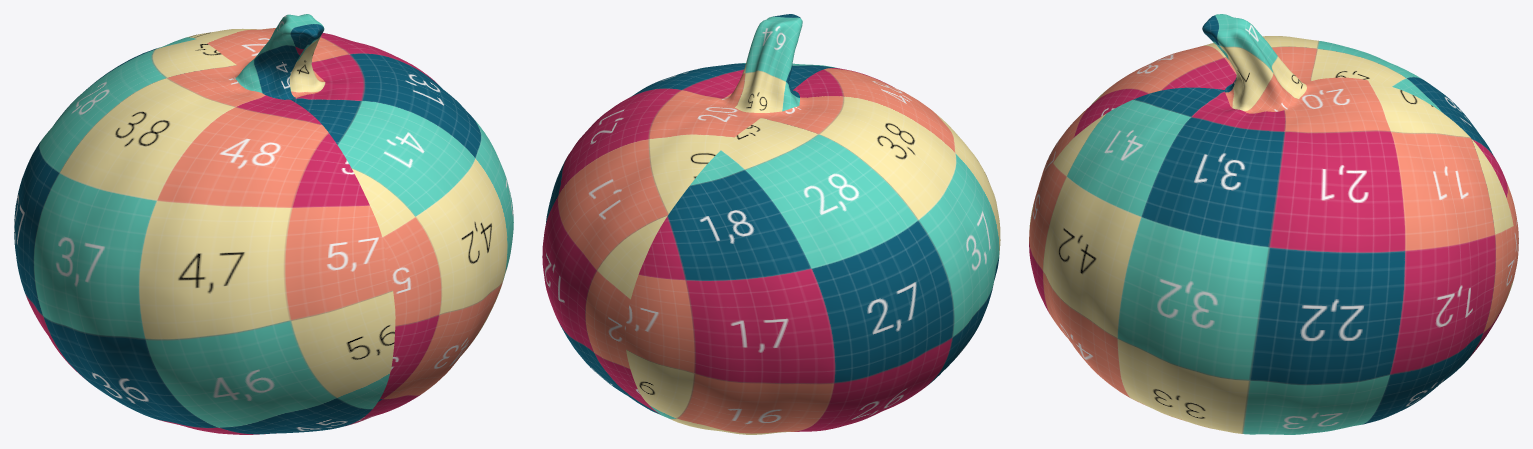
File: Pumpkin.obj
3 views of the same model, side by side, from view 1: azimuth 30°, elevation 25°; view 2: azimuth 150°, elevation 25°; view 3: azimuth 270°, elevation 25° (orthographic). The views are drawn at different scales.
Visible parts, largest first — view 1: Decorative_Pumpkin_1; view 2: Decorative_Pumpkin_1; view 3: Decorative_Pumpkin_1.
Boxes of the visible parts, <box> form: Decorative_Pumpkin_1: <box>14,14,513,434</box>; Decorative_Pumpkin_1: <box>542,14,1000,434</box>; Decorative_Pumpkin_1: <box>1029,14,1518,434</box>.
Size of the model in its own units: 31.95 by 27.75 by 32.46.
